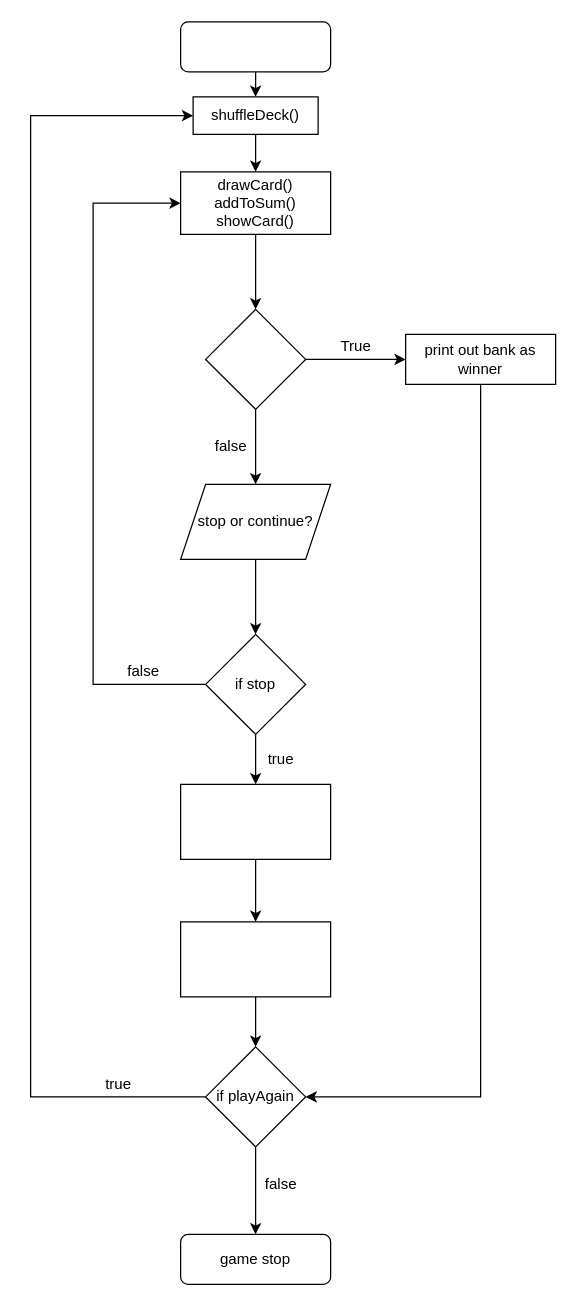
Image size: 578x1306. Some labels were removed from this diagram. Each missing label, with the centre of its shape:
bank drawCard(): [255,821]
compare sums and print out winner: [255,959]
if sum > 21: [255,358]
Start-button pressed: [255,46]
